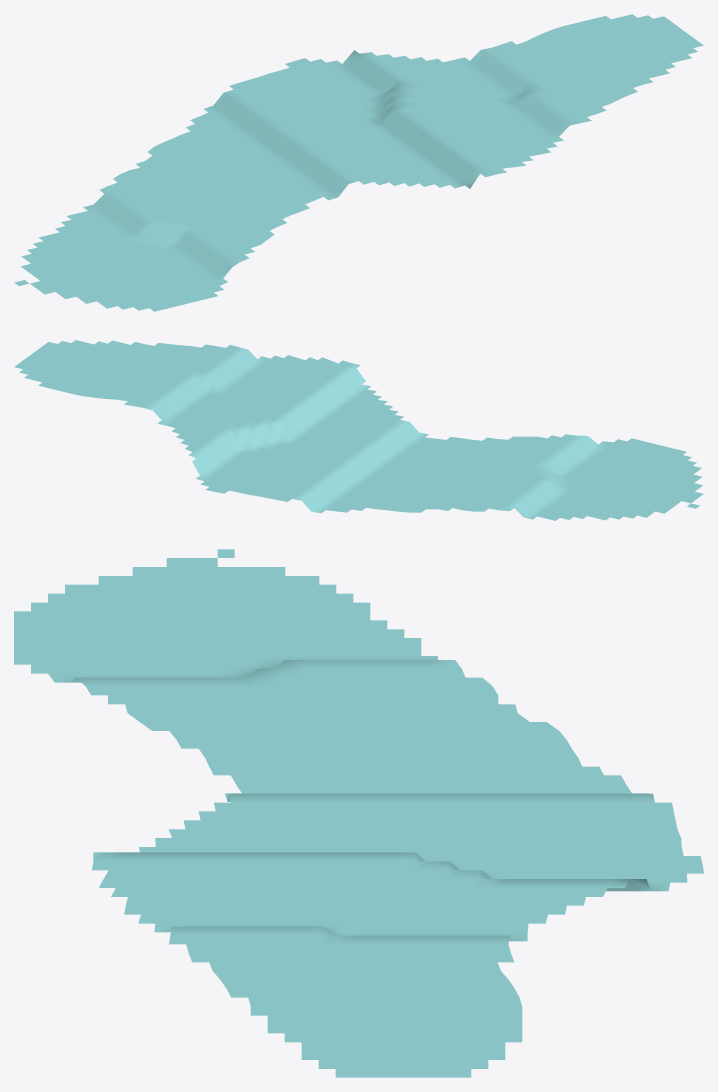
File: RiverModel10.FBX
The picture shows the model from 3 angles, top to bottom: view 1: azimuth 30°, elevation 25°; view 2: azimuth 150°, elevation 25°; view 3: azimuth 270°, elevation 25°; orthographic projection. The views are drawn at different scales.
Parts seen in each view (by area): view 1: RiverModel010; view 2: RiverModel010; view 3: RiverModel010.
Boxes of the visible parts, x1,y1,x2,y2 form: RiverModel010: (14,14,703,311); RiverModel010: (14,340,703,520); RiverModel010: (14,549,703,1077).
Size of the model in its own units: 1380 by 72.73 by 676.
